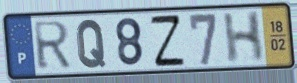7: (187, 11, 221, 67)
8: (114, 16, 145, 68)
H: (221, 9, 265, 66)
Q: (75, 18, 108, 70)
R: (31, 19, 74, 72)
Z: (148, 12, 187, 69)
